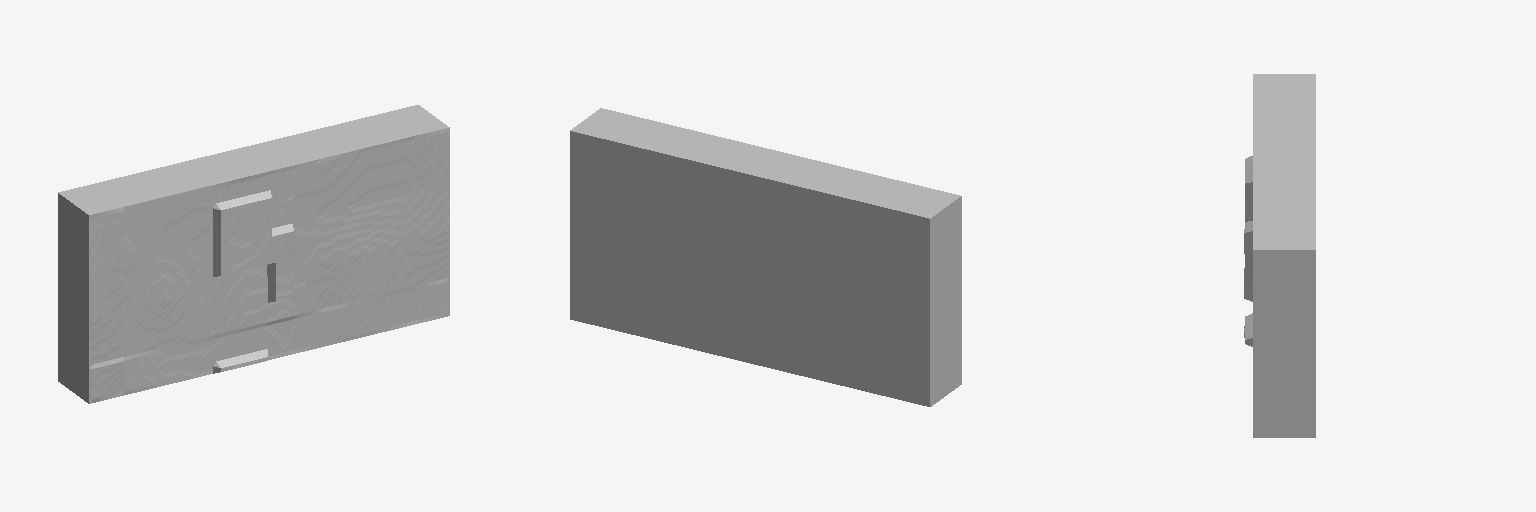
The model's file is rectangular_prism_bumps_3_7.obj.
The picture shows the model from 3 angles: view 1: azimuth 30°, elevation 25°; view 2: azimuth 150°, elevation 25°; view 3: azimuth 270°, elevation 25°; orthographic projection.
Size of the model in its own units: 10 by 5 by 1.72.